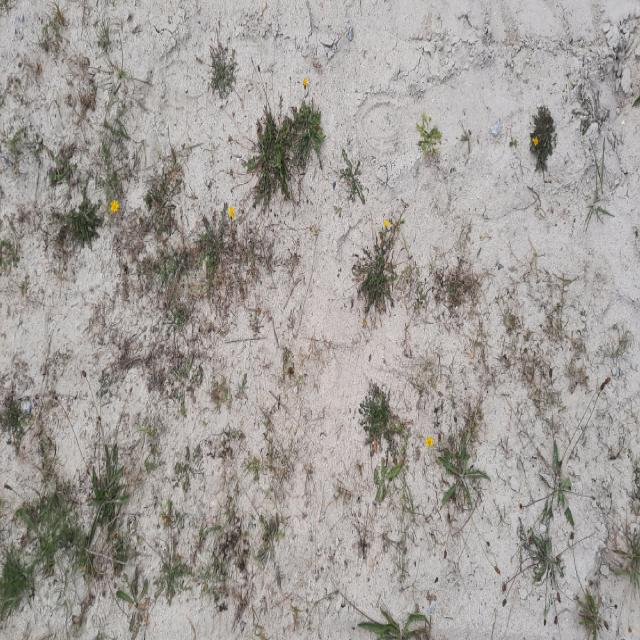grass: (0, 443, 129, 621), (246, 101, 324, 208)
white-sand: (0, 0, 639, 638)
